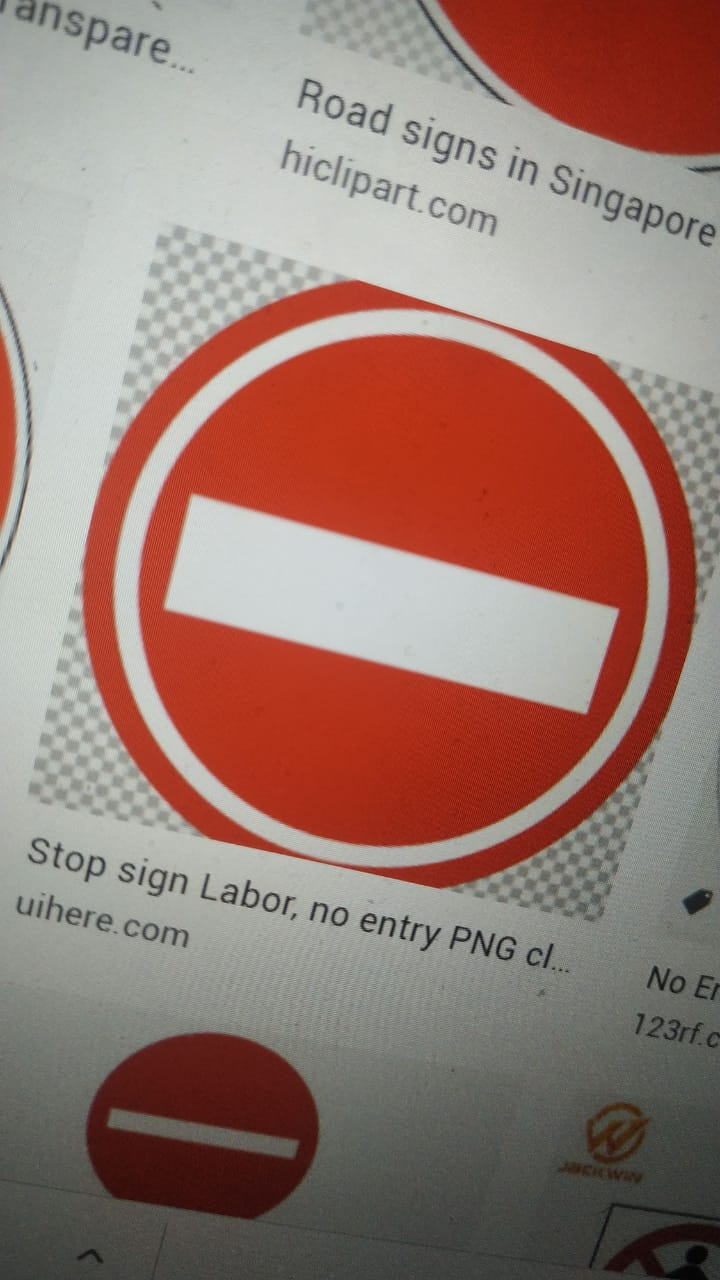NO ENTRY: (85, 177, 678, 933), (55, 981, 404, 1240)
